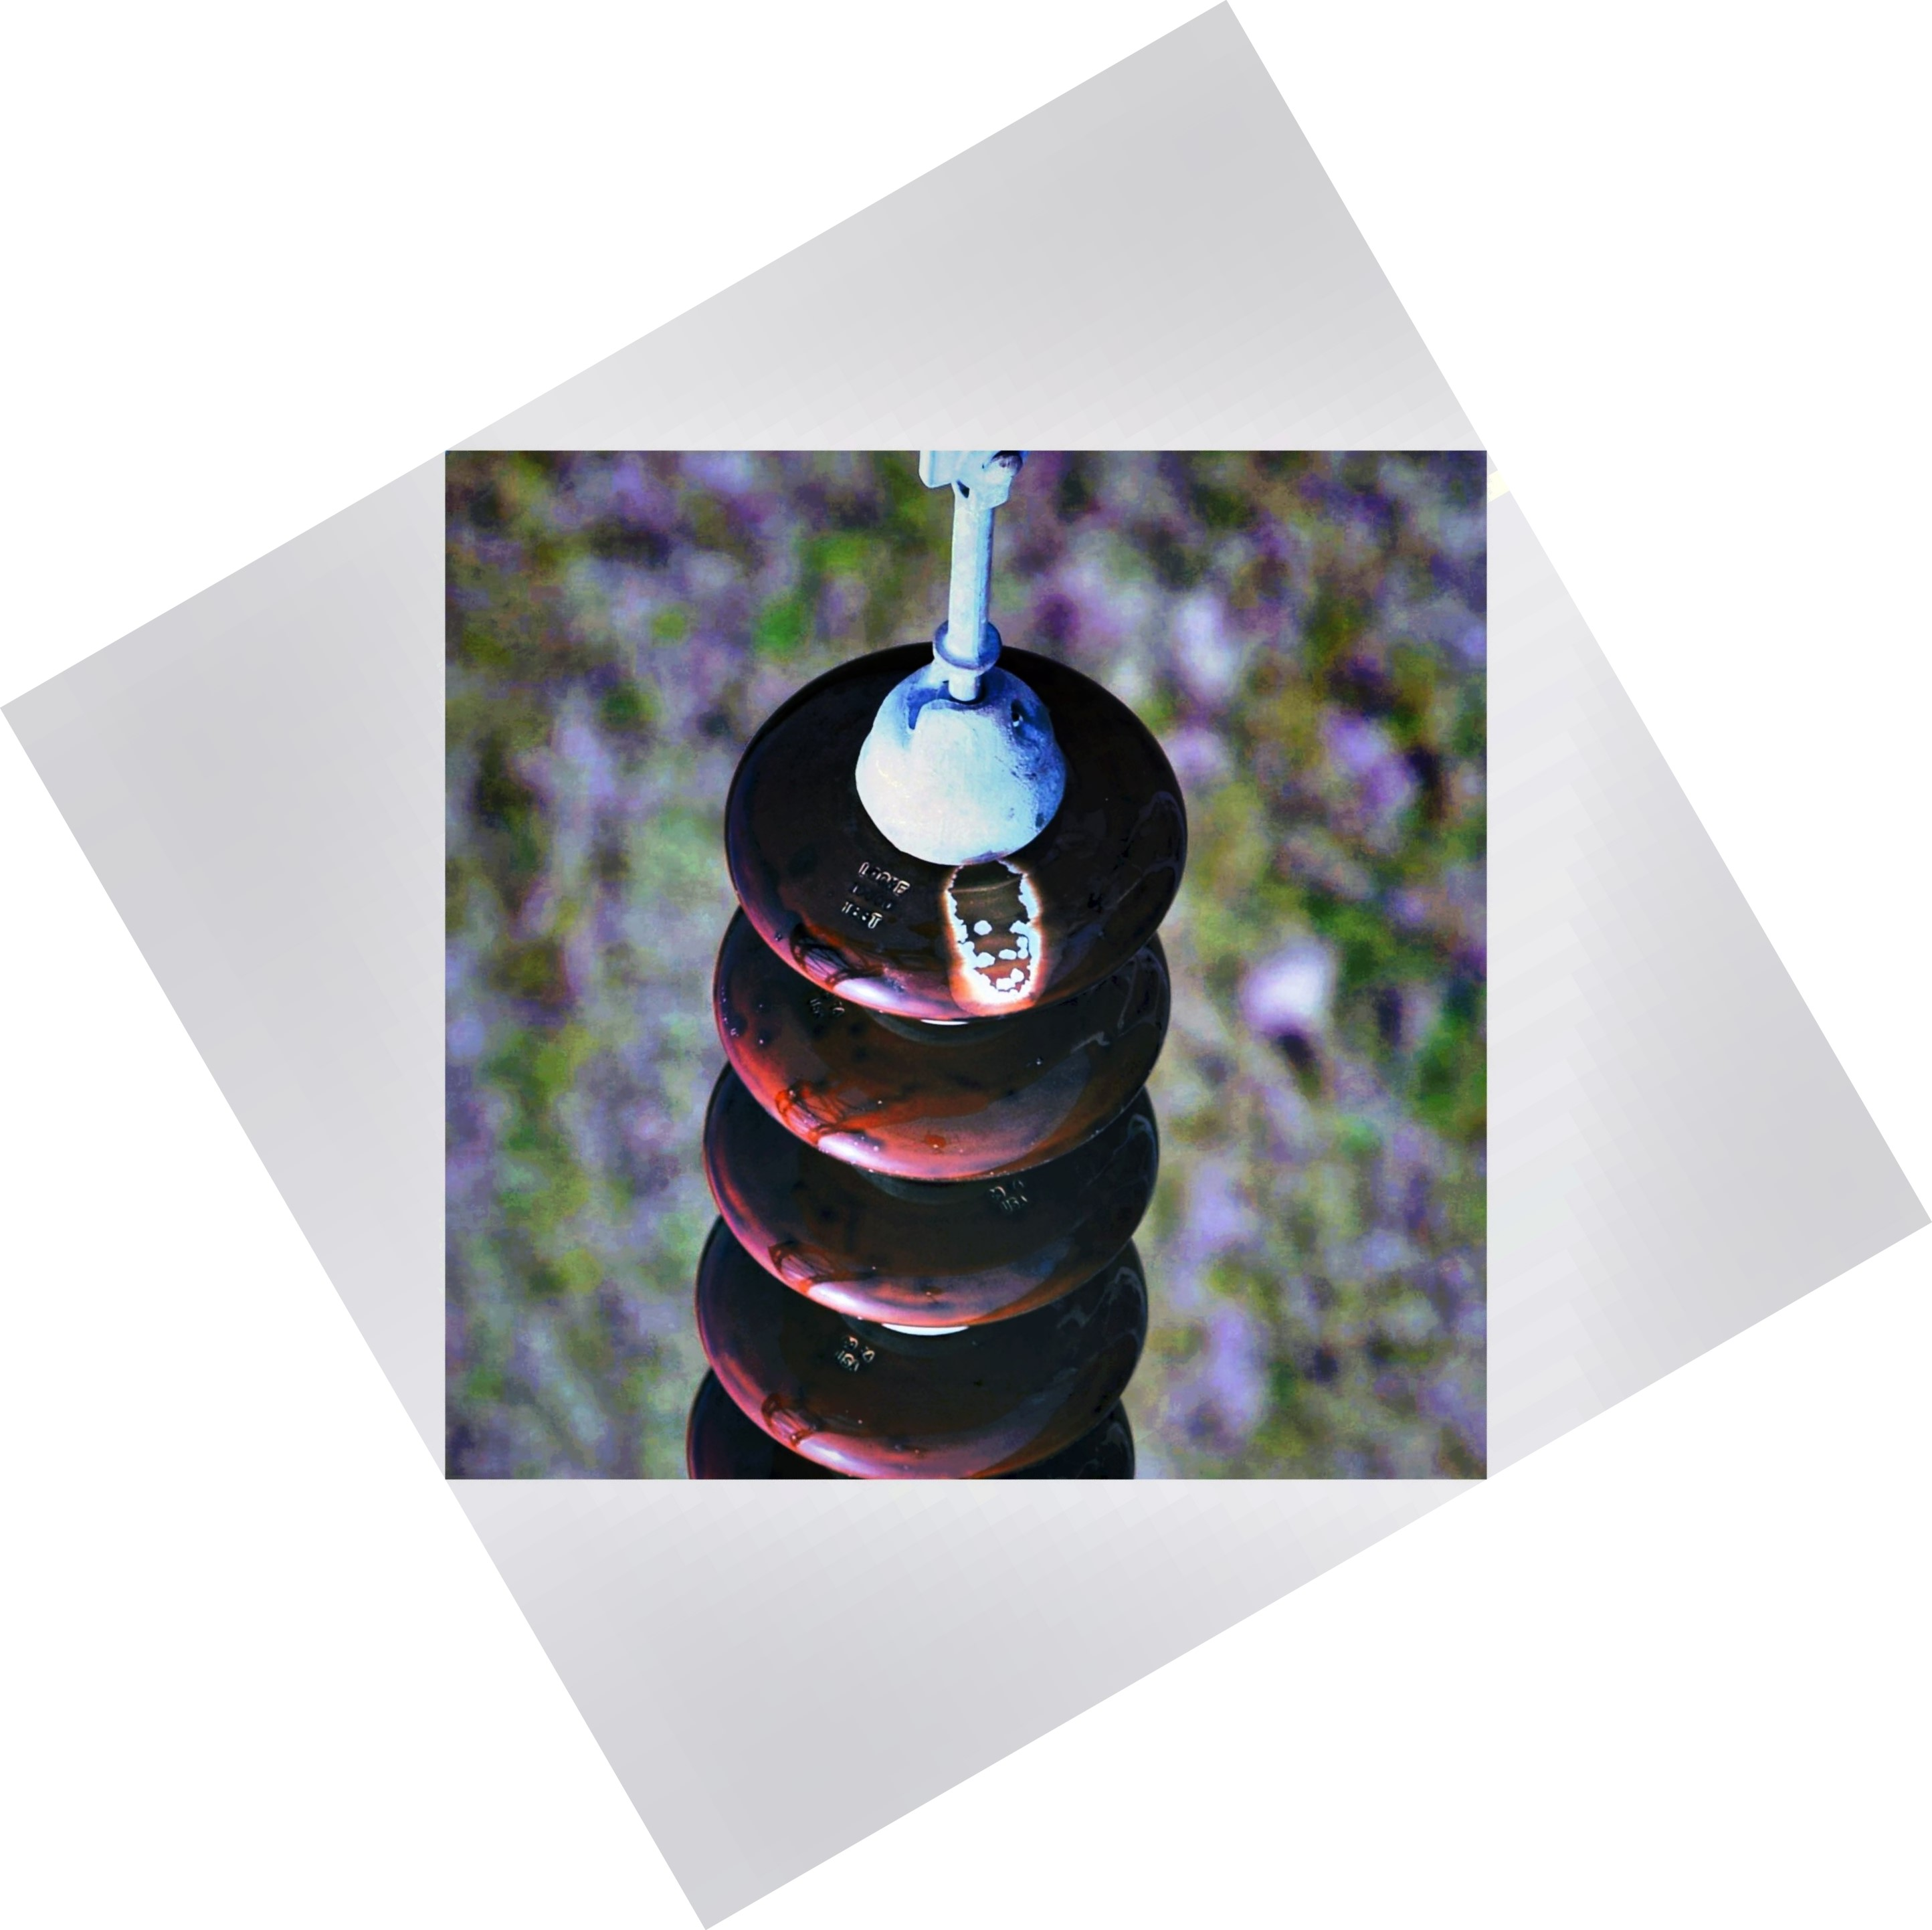Insulator flashover: (684, 629, 1197, 1037)
